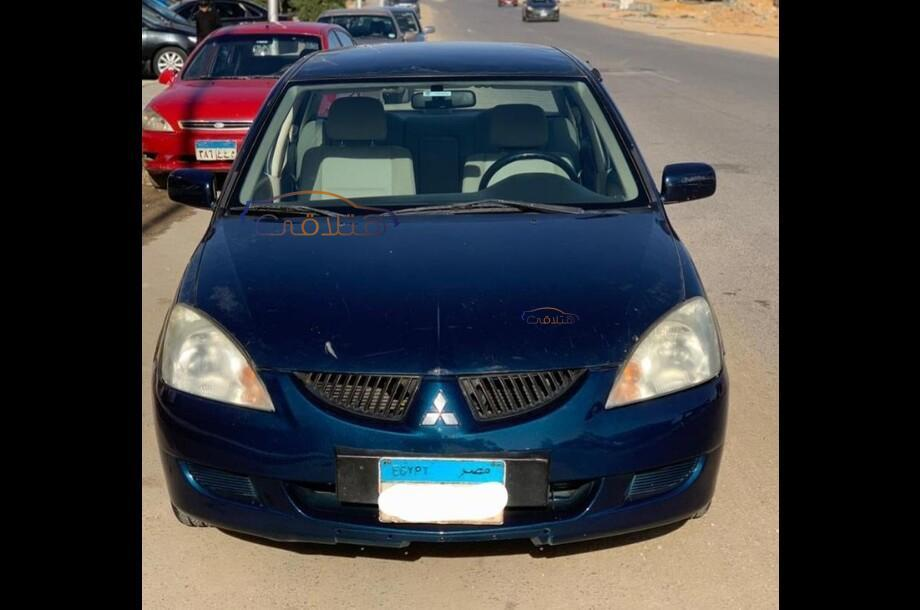Mitsubishi: (414, 378, 471, 441)
